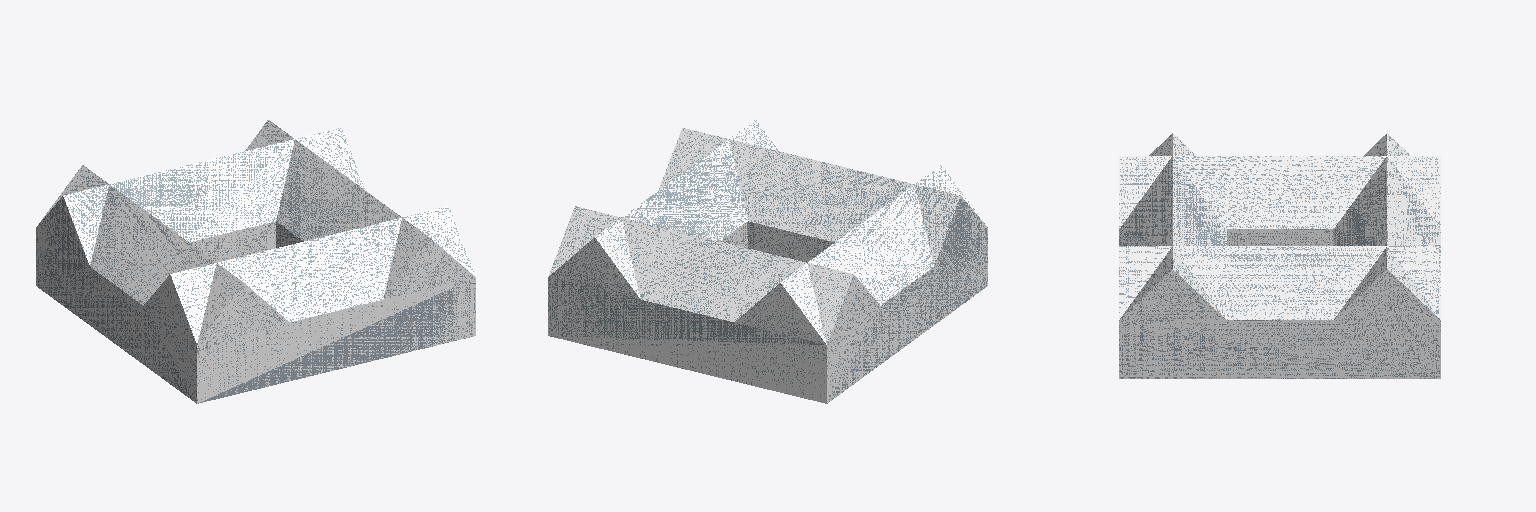
File: haus04.obj
3 renders of one model, left to right at view 1: azimuth 30°, elevation 25°; view 2: azimuth 150°, elevation 25°; view 3: azimuth 270°, elevation 25°, orthographic.
Parts seen in each view (by area): view 1: SketchUp_ID2.002; view 2: SketchUp_ID2.002; view 3: SketchUp_ID2.002.
Part boxes in pixels (x1,y1,x2,y2): SketchUp_ID2.002: (36, 120, 475, 403); SketchUp_ID2.002: (548, 120, 987, 403); SketchUp_ID2.002: (1119, 133, 1440, 378).
Bounding box in the file's own units: 15 × 5.67 × 15.